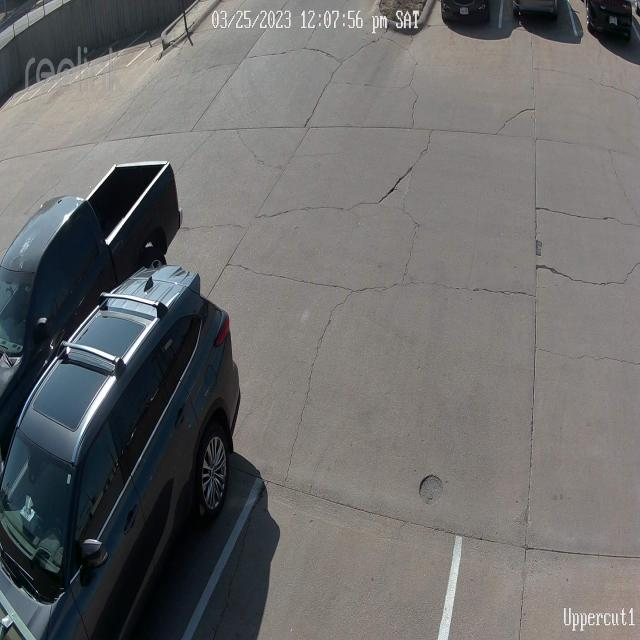Empty-slot: (192, 431, 475, 636), (444, 467, 640, 640)
Slot-Occupied: (5, 271, 226, 640), (0, 162, 182, 377), (588, 0, 637, 45), (442, 0, 490, 36), (516, 0, 563, 26)
